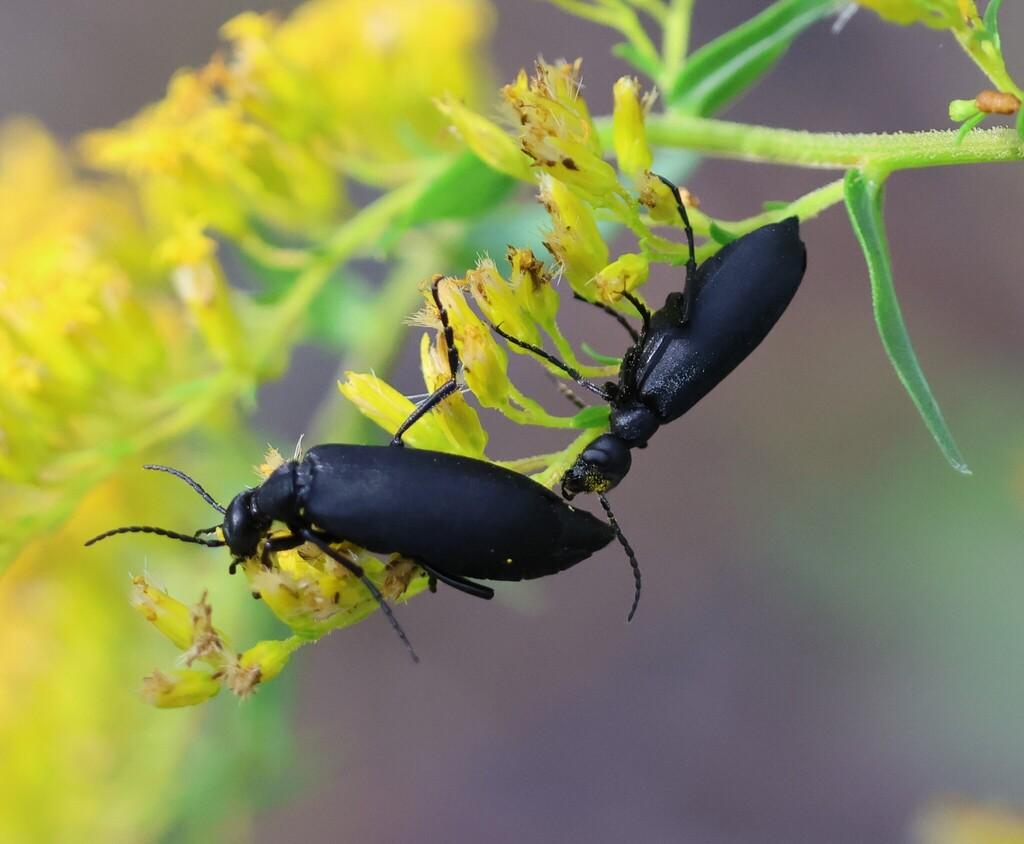blister_beetle: (43, 259, 678, 726), (467, 153, 874, 561)
